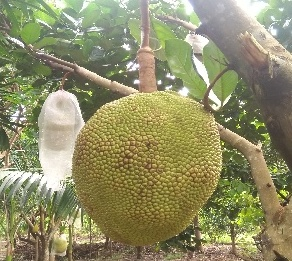Mit: (71, 91, 223, 247)
